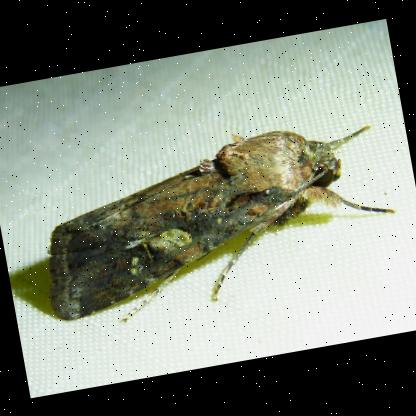Fall Armyworm Moth: (24, 104, 409, 336)
